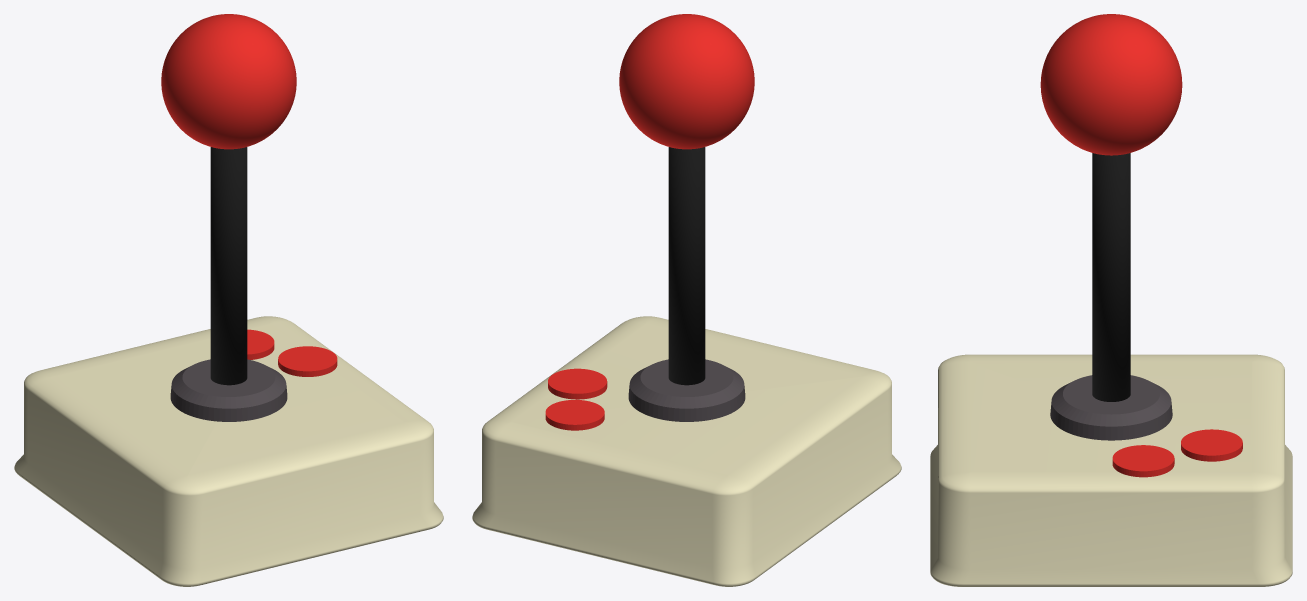
File: uploads_files_3201723_joystick1.fbx
3 renders of one model, left to right at view 1: azimuth 30°, elevation 25°; view 2: azimuth 150°, elevation 25°; view 3: azimuth 270°, elevation 25°, orthographic. The views are drawn at different scales.
Visible parts, largest first — view 1: Cube, Sphere, Cylinder, Circle, Circle.002, Circle.001; view 2: Cube, Sphere, Cylinder, Circle, Circle.002, Circle.001; view 3: Cube, Sphere, Cylinder, Circle, Circle.002, Circle.001.
Boxes of the visible parts, x1,y1,x2,y2 form: Cube: (14,316,443,586); Sphere: (161,14,296,149); Cylinder: (210,147,247,385); Circle: (170,359,287,421); Circle.002: (278,346,337,376); Circle.001: (247,329,274,359); Cube: (472,316,901,586); Sphere: (619,14,754,149); Cylinder: (668,147,705,385); Circle: (628,359,745,421); Circle.002: (548,368,607,399); Circle.001: (545,399,604,430); Cube: (930,354,1292,586); Sphere: (1040,14,1182,155); Cylinder: (1092,153,1130,401); Circle: (1050,375,1172,440); Circle.002: (1112,445,1174,477); Circle.001: (1181,429,1242,461).
Size of the model in its own units: 142 by 233 by 153.
